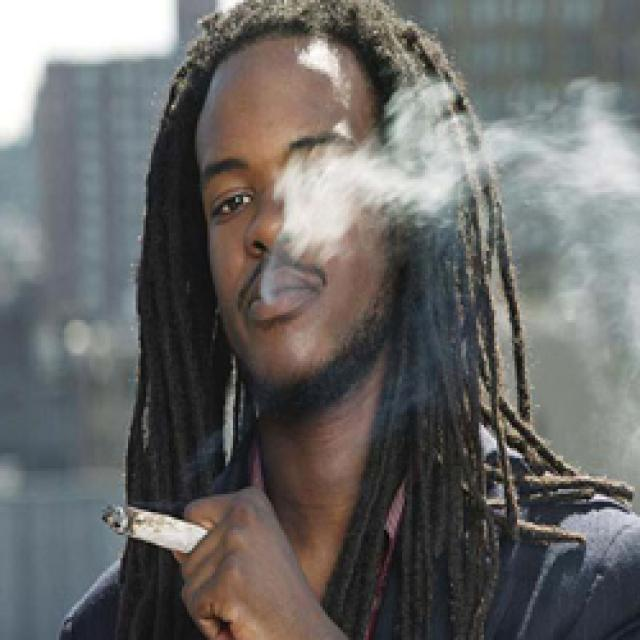Smooking: (90, 494, 215, 562)
